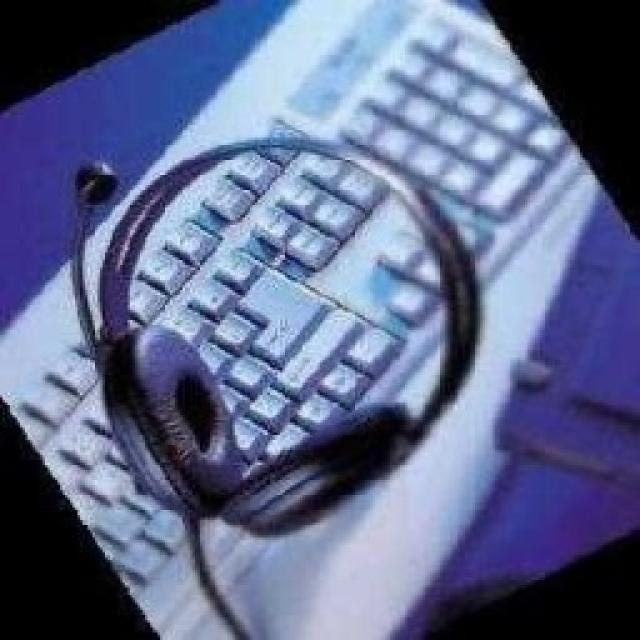kulaklik: (62, 114, 495, 638)
